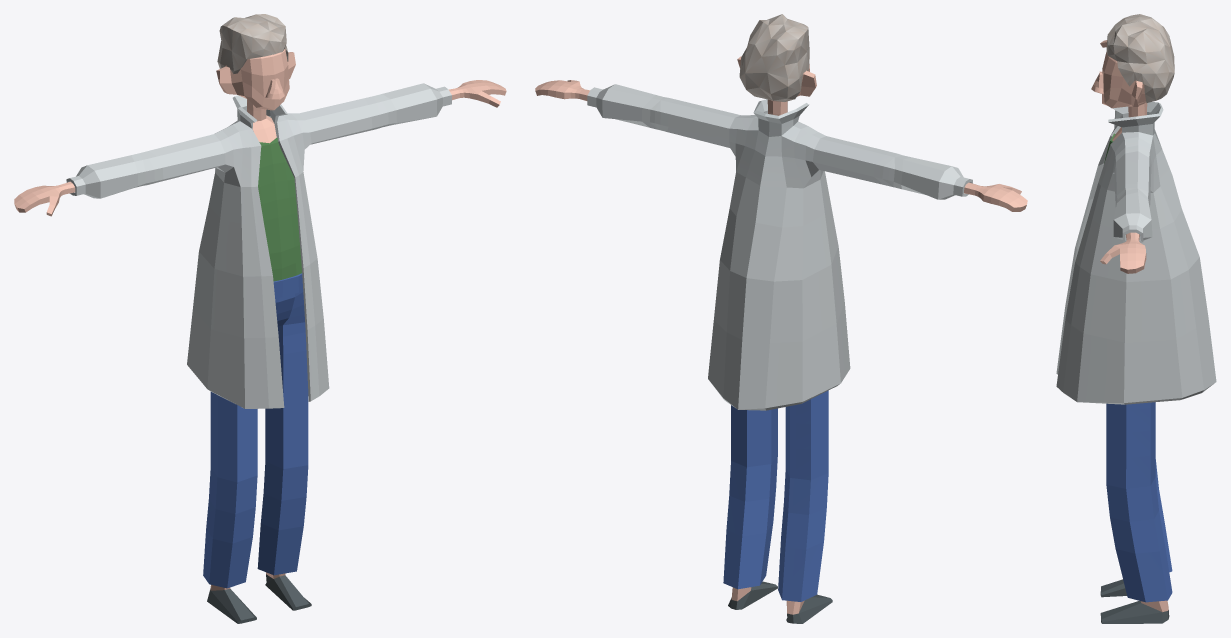
Rendered from laborant_6.fbx.
The picture shows the model from 3 angles, left to right: view 1: azimuth 30°, elevation 25°; view 2: azimuth 150°, elevation 25°; view 3: azimuth 270°, elevation 25°; orthographic projection.
Parts seen in each view (by area): view 1: laborant.006; view 2: laborant.006; view 3: laborant.006.
Part boxes in pixels (<box>): laborant.006: <box>14,14,506,623</box>; laborant.006: <box>535,14,1027,623</box>; laborant.006: <box>1056,14,1216,623</box>.
Size of the model in its own units: 148 by 170 by 42.3.
